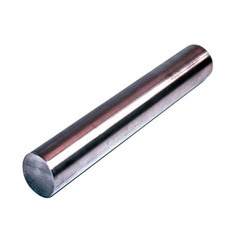metal: (22, 43, 213, 199)
